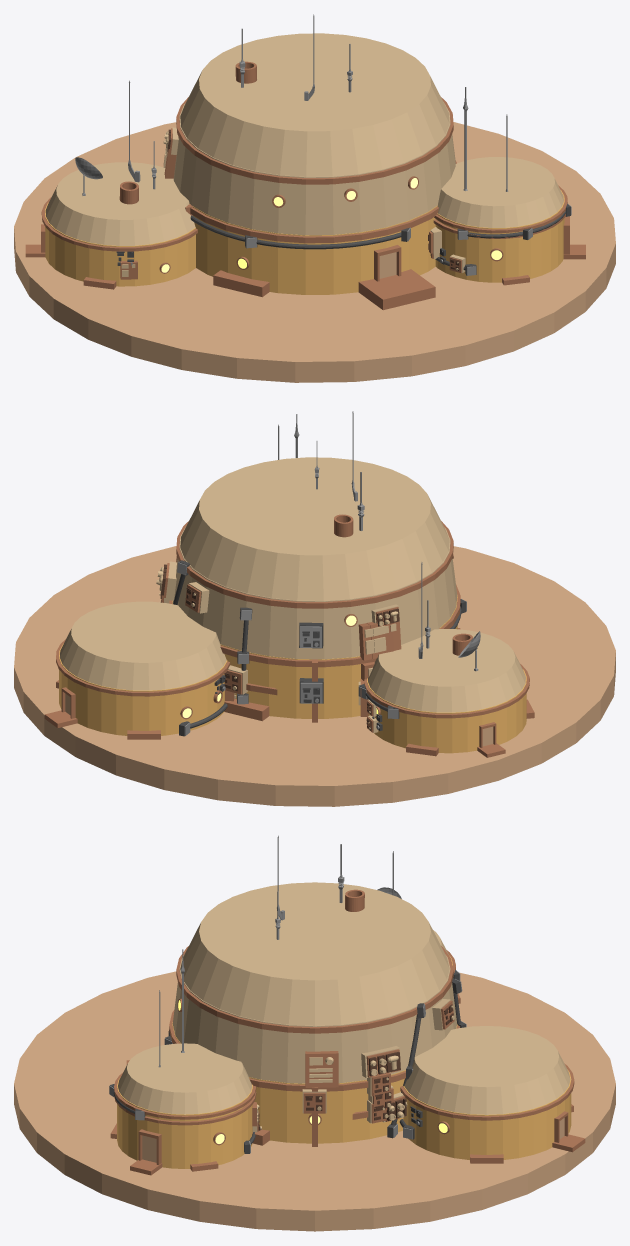
The model's file is nomad_building_20.fbx.
3 renders of one model, top to bottom at view 1: azimuth 30°, elevation 25°; view 2: azimuth 150°, elevation 25°; view 3: azimuth 270°, elevation 25°, orthographic.
Visible parts, largest first — view 1: B20_M_Foundation_foundation, B20_M_Crown_TowerBody_RoofCap, B20_M_Drum1, B20_M_Drum0, B20_A3_Crown_TowerBody_RoofCap, B20_A2_Crown_TowerBody_RoofCap, B20_A2_Drum0, B20_A3_Drum0, B20_M_Ring10_TowerTrim_BandThin, B20_M_Step_TowerTrim_DoorStep, B20_M_Ring00_TowerTrim_BandThin, B20_M_Pipe2 (+3 smaller); view 2: B20_M_Foundation_foundation, B20_M_Crown_TowerBody_RoofCap, B20_A1_Crown_TowerBody_RoofCap, B20_M_Drum1, B20_A3_Crown_TowerBody_RoofCap, B20_A1_Drum0, B20_M_Drum0, B20_A3_Drum0, B20_M_Ring10_TowerTrim_BandThin, B20_M_Ring00_TowerTrim_BandThin, B20_A1_Ring00_TowerTrim_BandThin, B20_A3_Ring00_TowerTrim_BandThin (+2 smaller); view 3: B20_M_Foundation_foundation, B20_M_Crown_TowerBody_RoofCap, B20_A1_Crown_TowerBody_RoofCap, B20_M_Drum1, B20_A2_Crown_TowerBody_RoofCap, B20_A1_Drum0, B20_M_Drum0, B20_A2_Drum0, B20_M_Ring10_TowerTrim_BandThin, B20_A1_Ring00_TowerTrim_BandThin, B20_M_Ring00_TowerTrim_BandThin, B20_M_Panel9_PanelBox_Body001 (+2 smaller).
Part boxes in pixels (x1,y1,x2,y2): B20_M_Foundation_foundation: [14, 122, 615, 382]; B20_M_Crown_TowerBody_RoofCap: [180, 33, 449, 176]; B20_M_Drum1: [173, 102, 455, 235]; B20_M_Drum0: [189, 204, 437, 294]; B20_A3_Crown_TowerBody_RoofCap: [45, 162, 195, 245]; B20_A2_Crown_TowerBody_RoofCap: [437, 157, 563, 227]; B20_A2_Drum0: [435, 190, 564, 282]; B20_A3_Drum0: [44, 202, 195, 286]; B20_M_Ring10_TowerTrim_BandThin: [176, 97, 453, 184]; B20_M_Step_TowerTrim_DoorStep: [358, 269, 435, 310]; B20_M_Ring00_TowerTrim_BandThin: [190, 161, 456, 243]; B20_M_Pipe2: [190, 215, 401, 249]; B20_M_Foundation_foundation: [14, 546, 615, 806]; B20_M_Crown_TowerBody_RoofCap: [180, 457, 449, 600]; B20_A1_Crown_TowerBody_RoofCap: [59, 601, 226, 690]; B20_M_Drum1: [172, 526, 457, 659]; B20_A3_Crown_TowerBody_RoofCap: [368, 629, 525, 712]; B20_A1_Drum0: [59, 643, 227, 735]; B20_M_Drum0: [172, 595, 457, 718]; B20_A3_Drum0: [367, 669, 526, 753]; B20_M_Ring10_TowerTrim_BandThin: [176, 521, 453, 608]; B20_M_Ring00_TowerTrim_BandThin: [169, 584, 460, 667]; B20_A1_Ring00_TowerTrim_BandThin: [56, 639, 230, 696]; B20_A3_Ring00_TowerTrim_BandThin: [364, 664, 529, 718]; B20_M_Foundation_foundation: [14, 971, 615, 1231]; B20_M_Crown_TowerBody_RoofCap: [180, 882, 449, 1025]; B20_A1_Crown_TowerBody_RoofCap: [404, 1026, 570, 1114]; B20_M_Drum1: [172, 955, 457, 1083]; B20_A2_Crown_TowerBody_RoofCap: [118, 1043, 252, 1114]; B20_A1_Drum0: [403, 1069, 571, 1159]; B20_M_Drum0: [172, 1022, 457, 1143]; B20_A2_Drum0: [117, 1077, 252, 1168]; B20_M_Ring10_TowerTrim_BandThin: [176, 946, 453, 1033]; B20_A1_Ring00_TowerTrim_BandThin: [400, 1063, 574, 1120]; B20_M_Ring00_TowerTrim_BandThin: [169, 1010, 460, 1091]; B20_M_Panel9_PanelBox_Body001: [305, 1051, 338, 1087].
Size of the model in its own units: 1367 by 650 by 1367.
